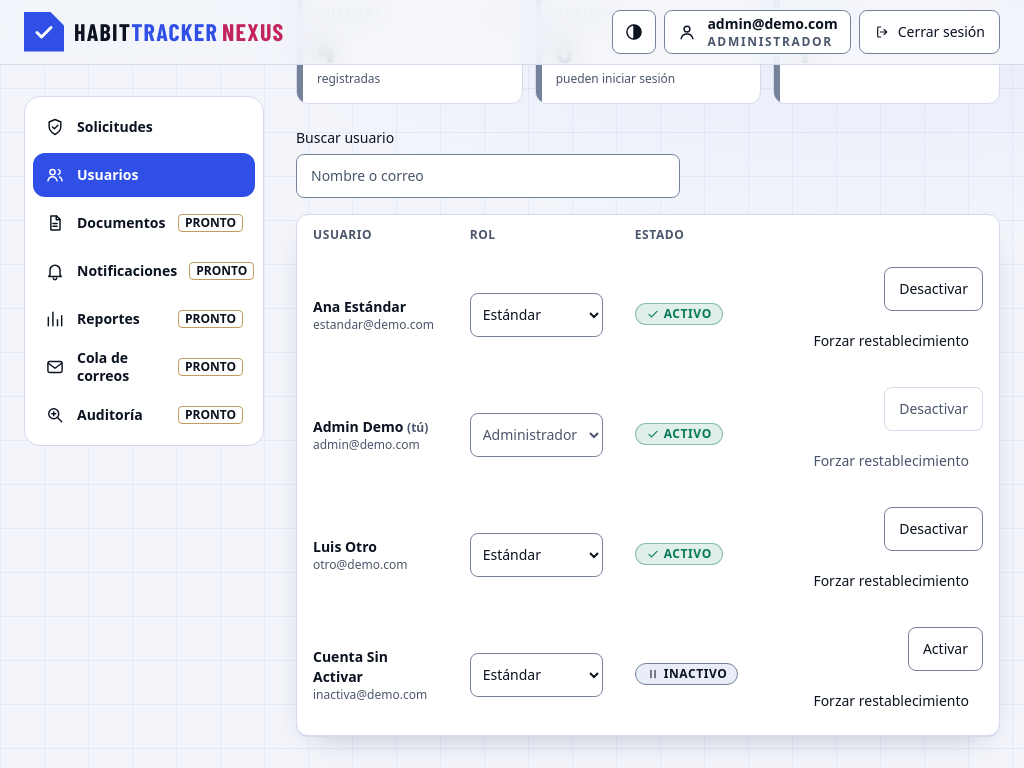
administración de usuarios › desactiva una cuenta
(page scrolled)
Click the button with aria-label "Desactivar a".
click(934, 529)  # box top-left (884, 507), bottom-right (983, 551)
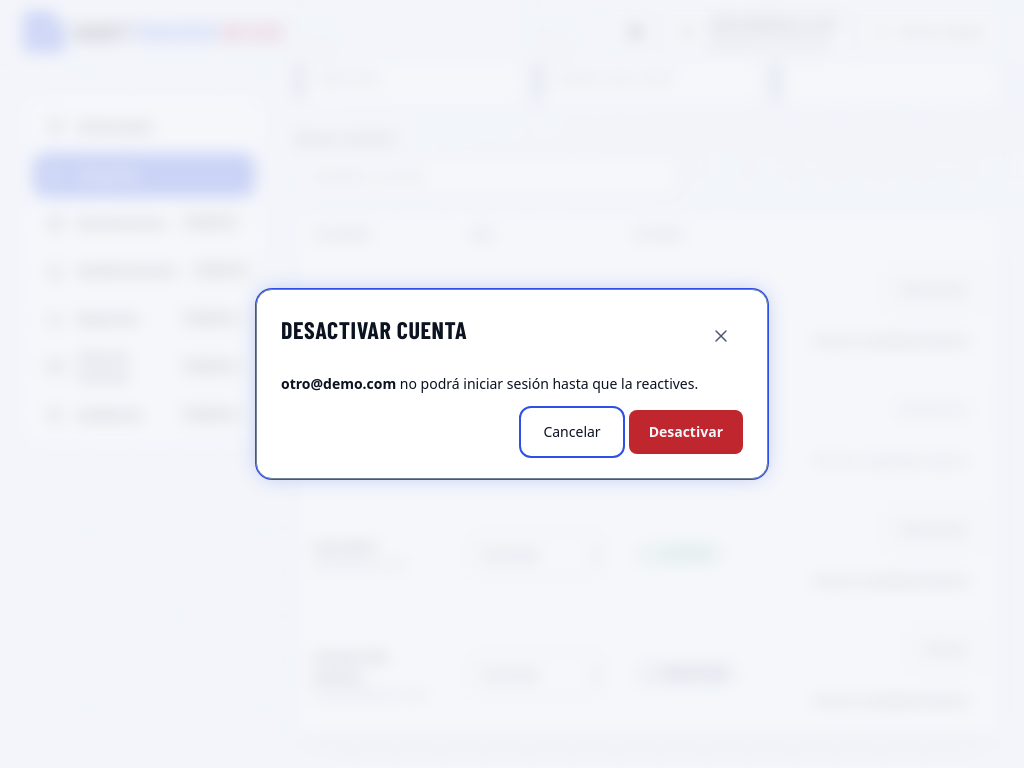
Click the button "Desactivar".
click(686, 432)  # box top-left (629, 410), bottom-right (743, 454)
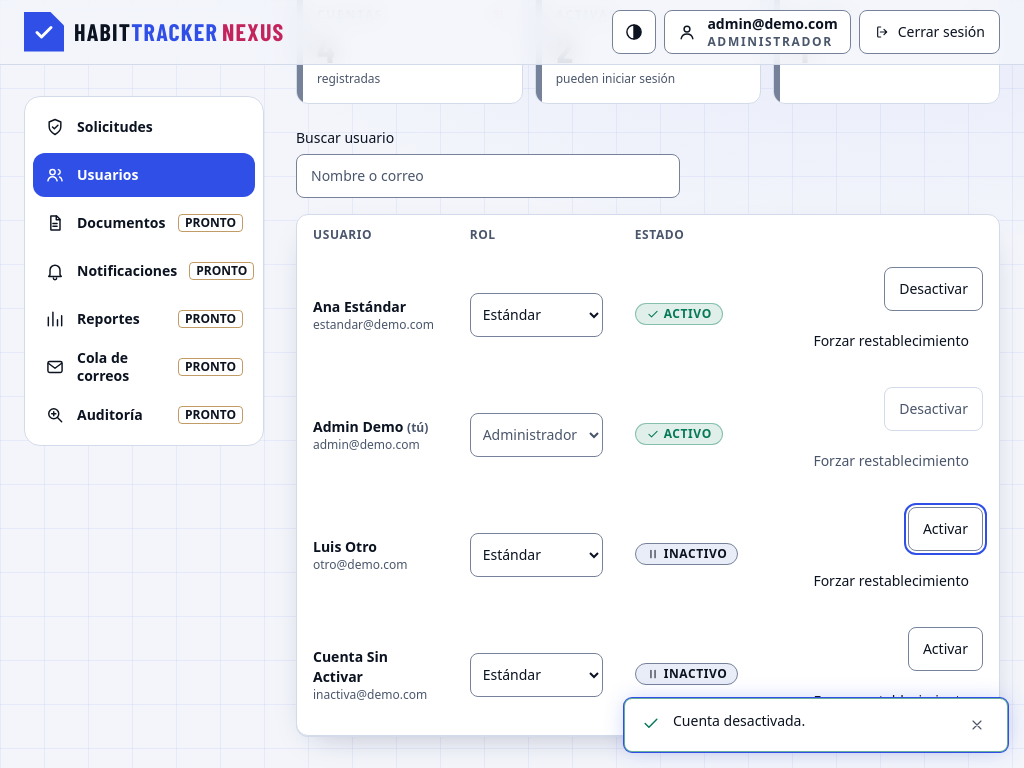
Expected: the text "Cuenta desactivada." is shown, top-left (673, 711), bottom-right (805, 730)
